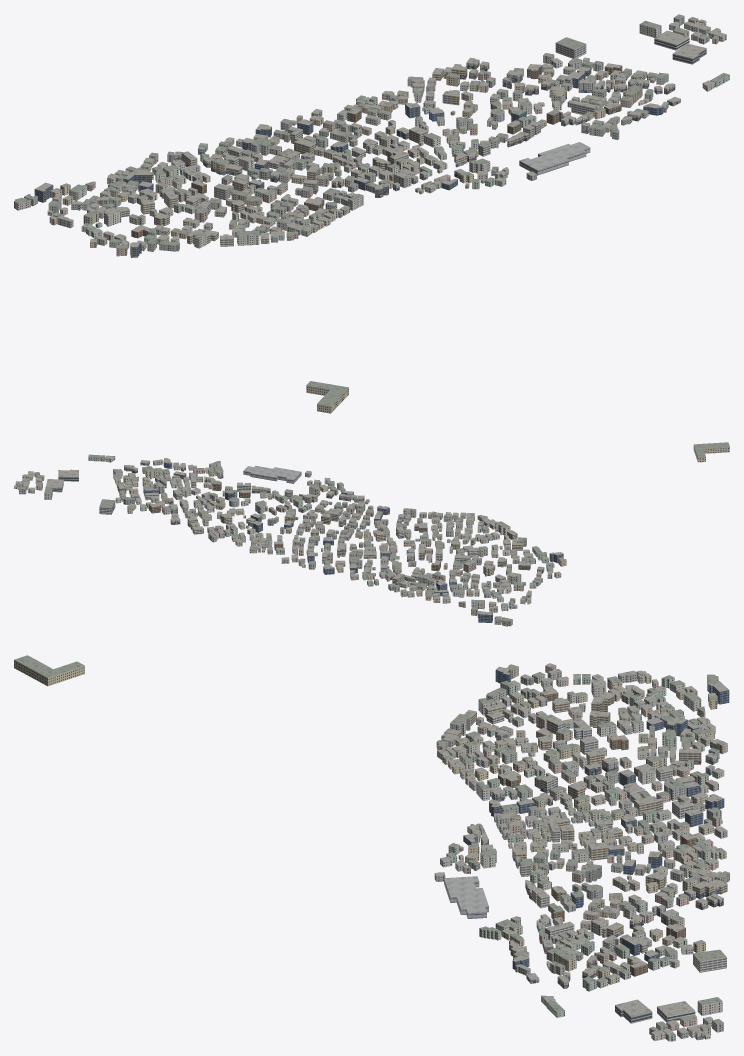
File: ArahaTown_Block_E00000_S03072.gltf
The picture shows the model from 3 angles, top to bottom: view 1: azimuth 30°, elevation 25°; view 2: azimuth 150°, elevation 25°; view 3: azimuth 270°, elevation 25°; orthographic projection. The views are drawn at different scales.
Parts seen in each view (by area): view 1: ArahaTown_Block_E00000_S03072; view 2: ArahaTown_Block_E00000_S03072; view 3: ArahaTown_Block_E00000_S03072.
Boxes of the visible parts, bbox=[...] form: ArahaTown_Block_E00000_S03072: bbox=[14, 14, 729, 413]; ArahaTown_Block_E00000_S03072: bbox=[14, 442, 729, 626]; ArahaTown_Block_E00000_S03072: bbox=[14, 655, 729, 1041].
Size of the model in its own units: 1034 by 53.63 by 819.
Materials: 18 (18 with a texture image).
